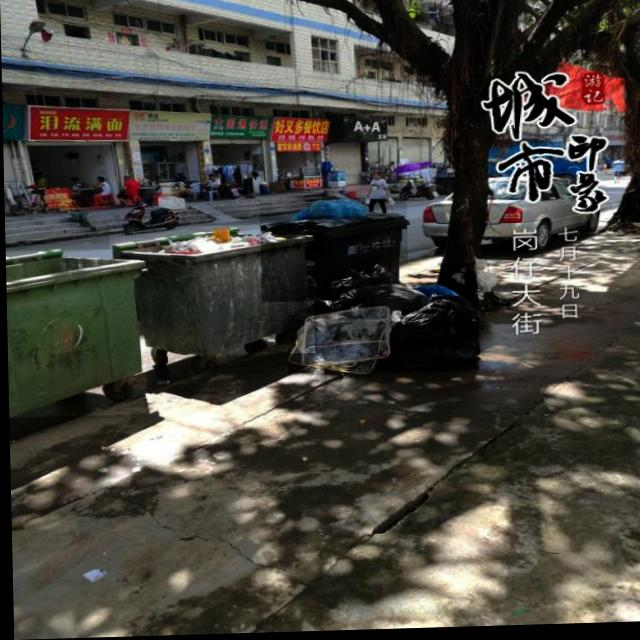garbage: (285, 265, 478, 377)
garbage_bin: (4, 249, 145, 418)
overflow: (108, 225, 313, 359), (259, 199, 407, 304)
